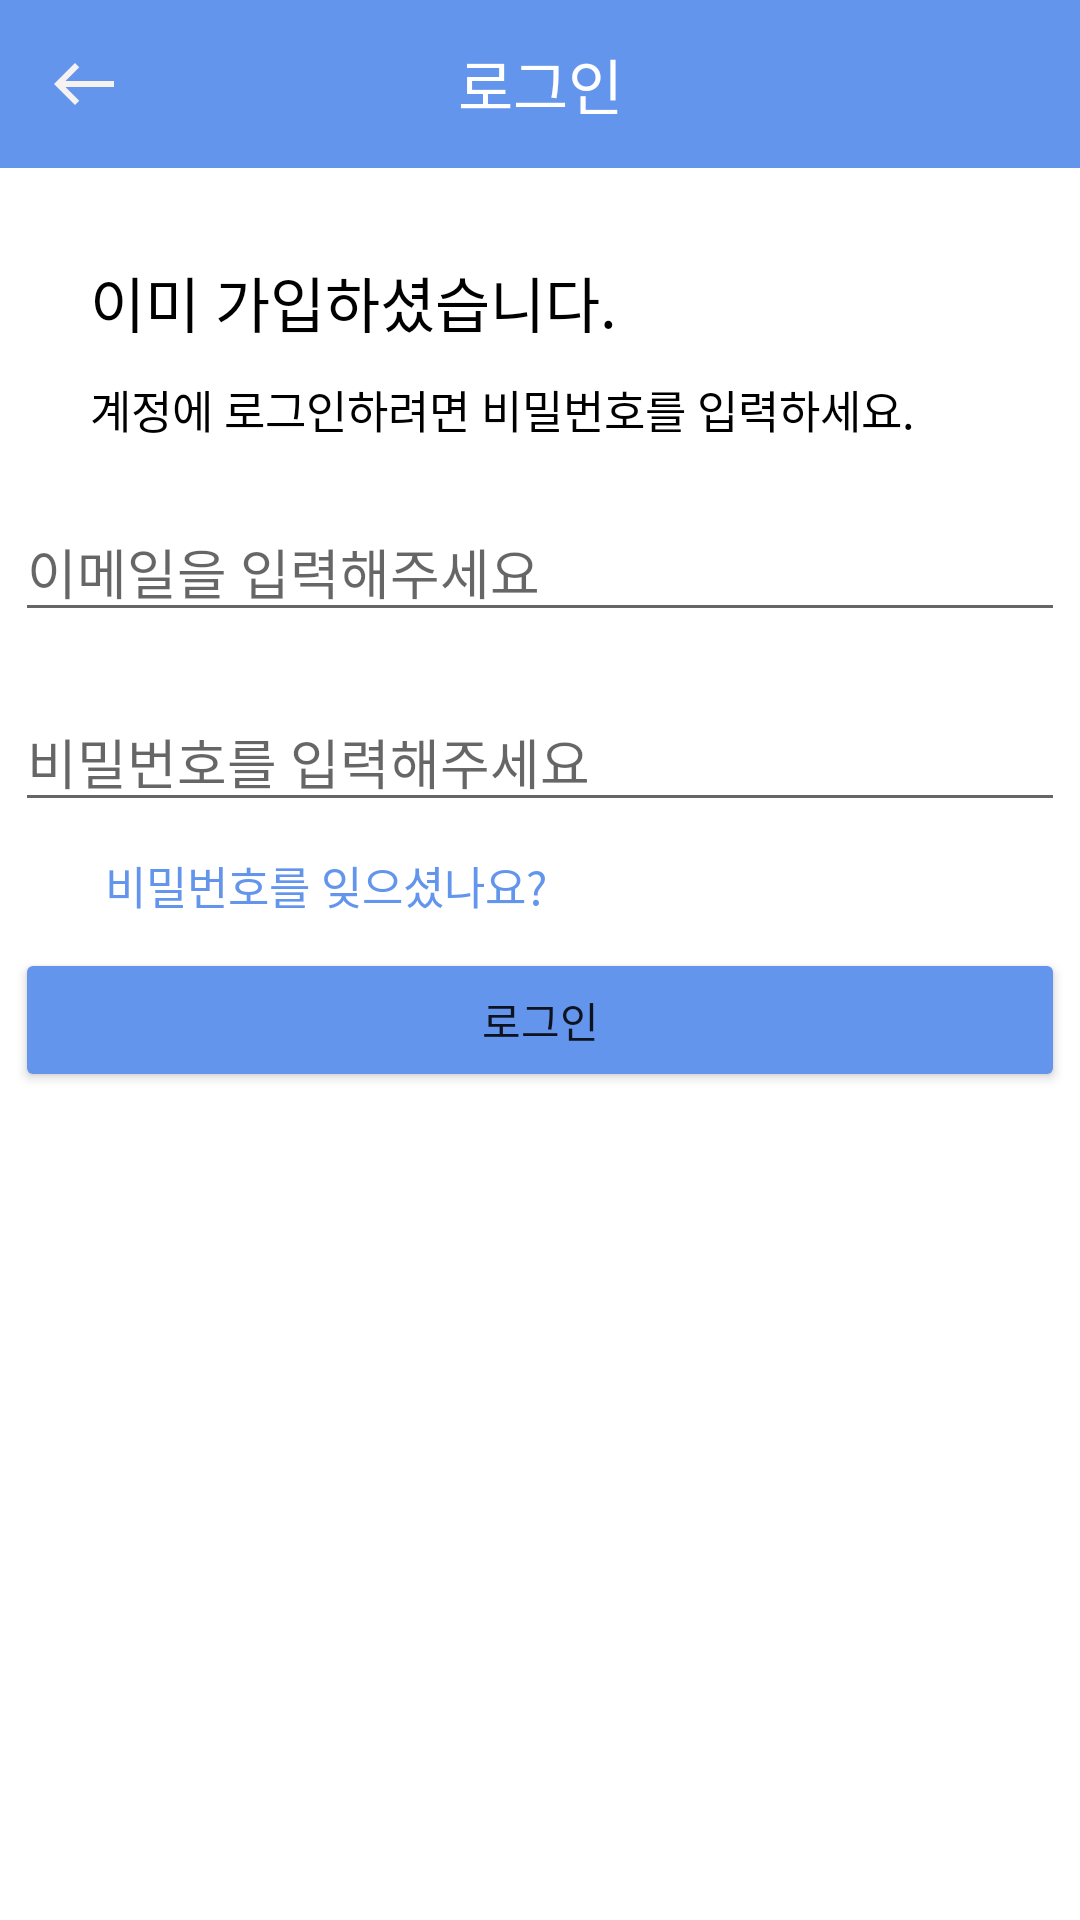

Point at icon controls on the screen. Image size 1080×1920, points as point (x, y).
west: point (84, 84)
